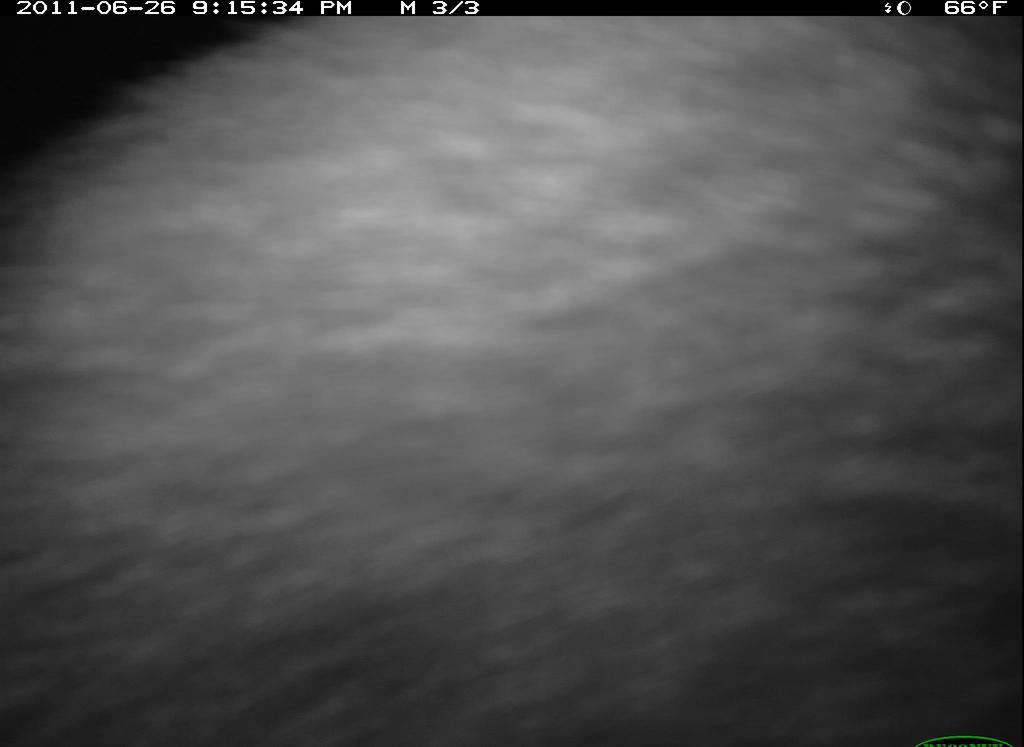raccoon: (3, 8, 1019, 742)
